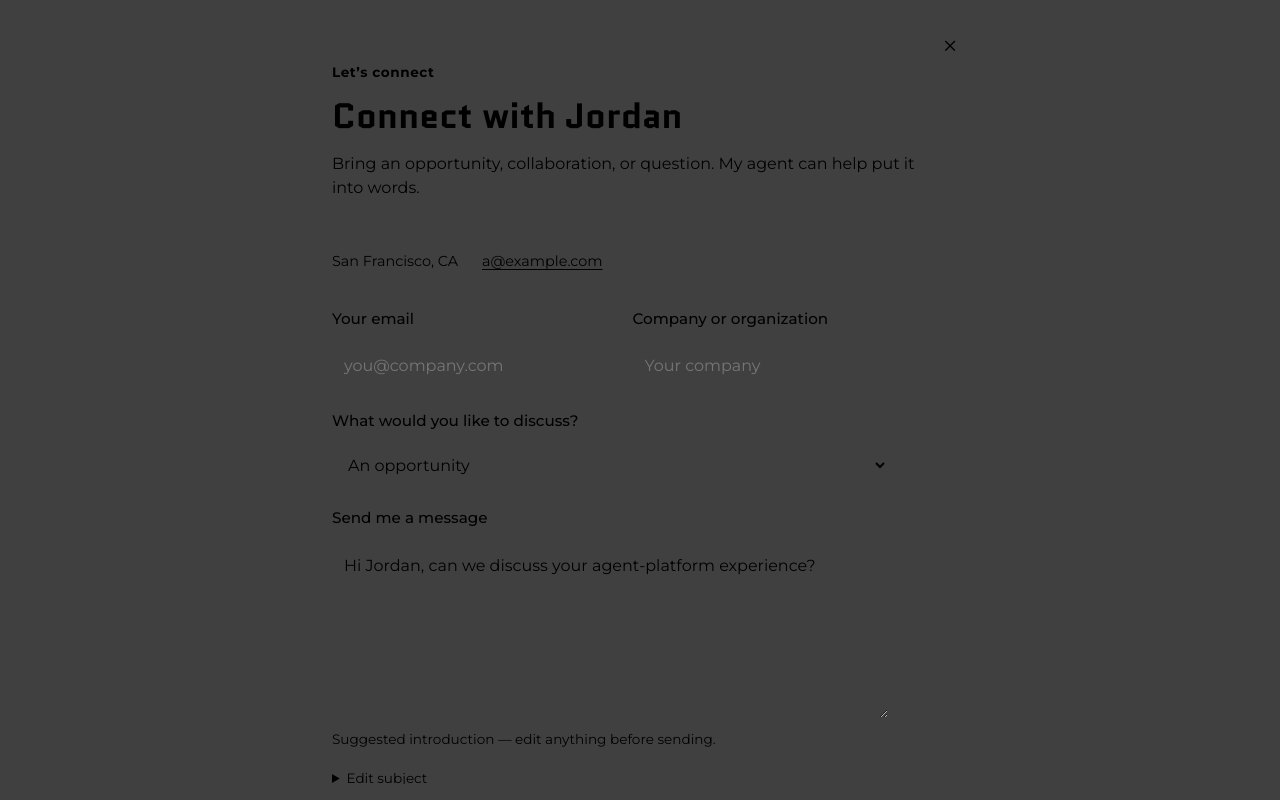
Test: contact introduction › retains identity and message on failure and offers an encoded owner-only fallback
The image size is (1280, 800).
Check: the text "Suggested introduction — edit anything before sending." is shown, box [332,731,716,747]
Type "visitor@example.com" into the field labelled "Your email".
click(467, 366); type("visitor@example.com")  # box [332,341,602,391]
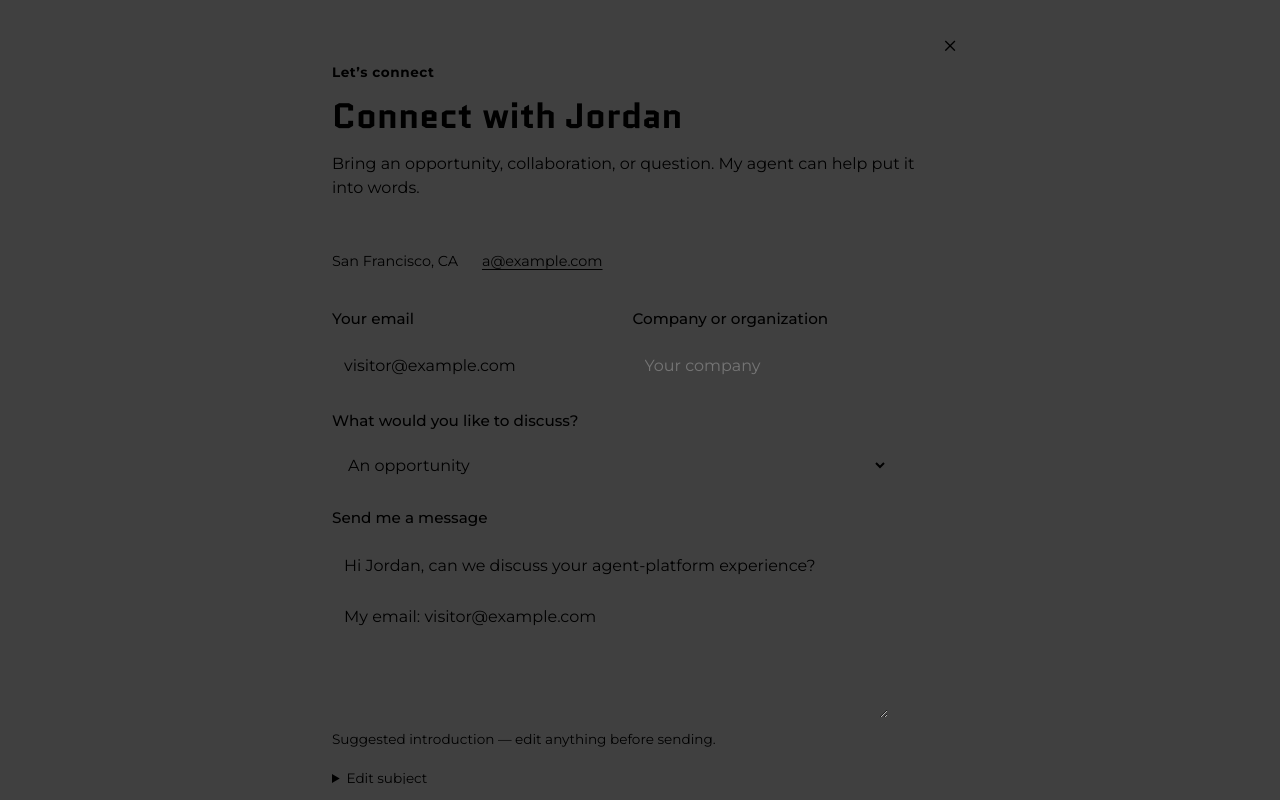
Type "Example Labs" into the field labelled "Company or organization".
click(768, 366); type("Example Labs")  # box [633,341,903,391]
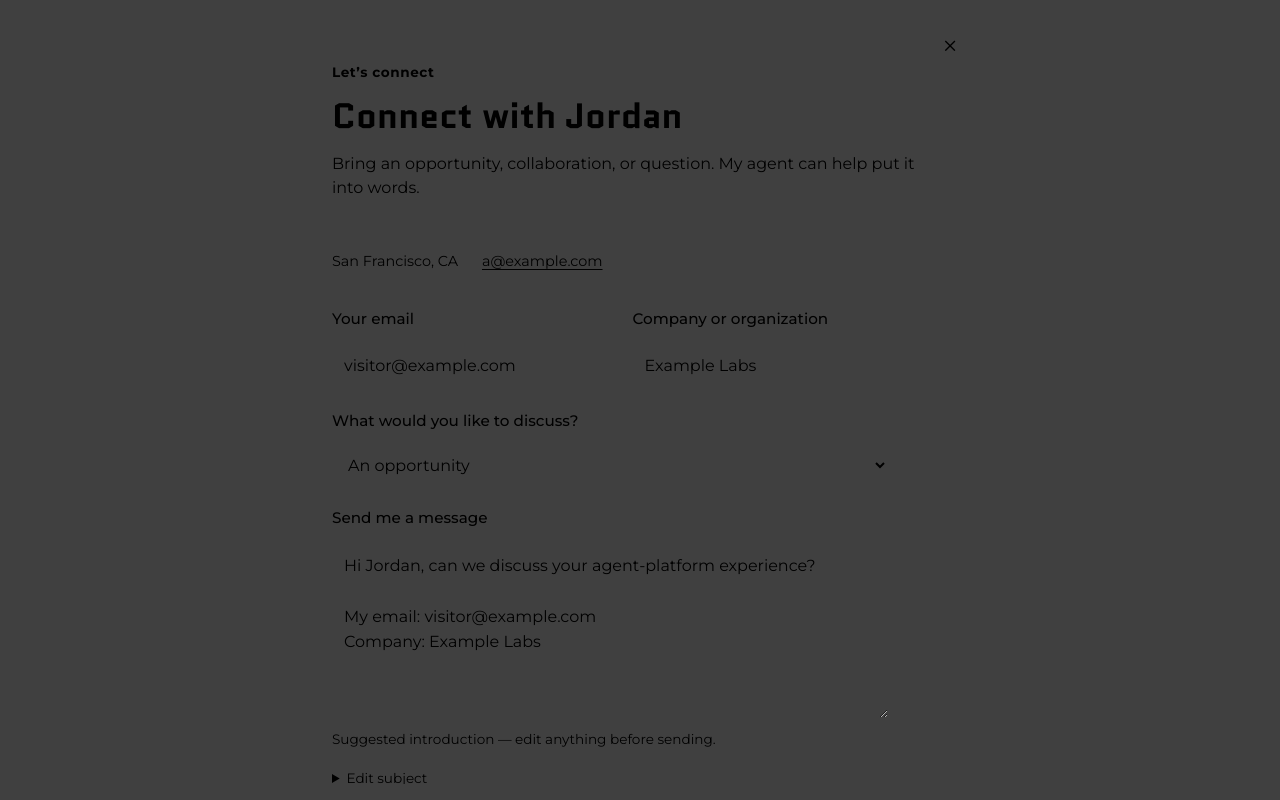
Replace the text in the text box labelled "Send me a message" with "Hello & agents?" at (610, 629), box [332,541,888,718]
(page scrolled)
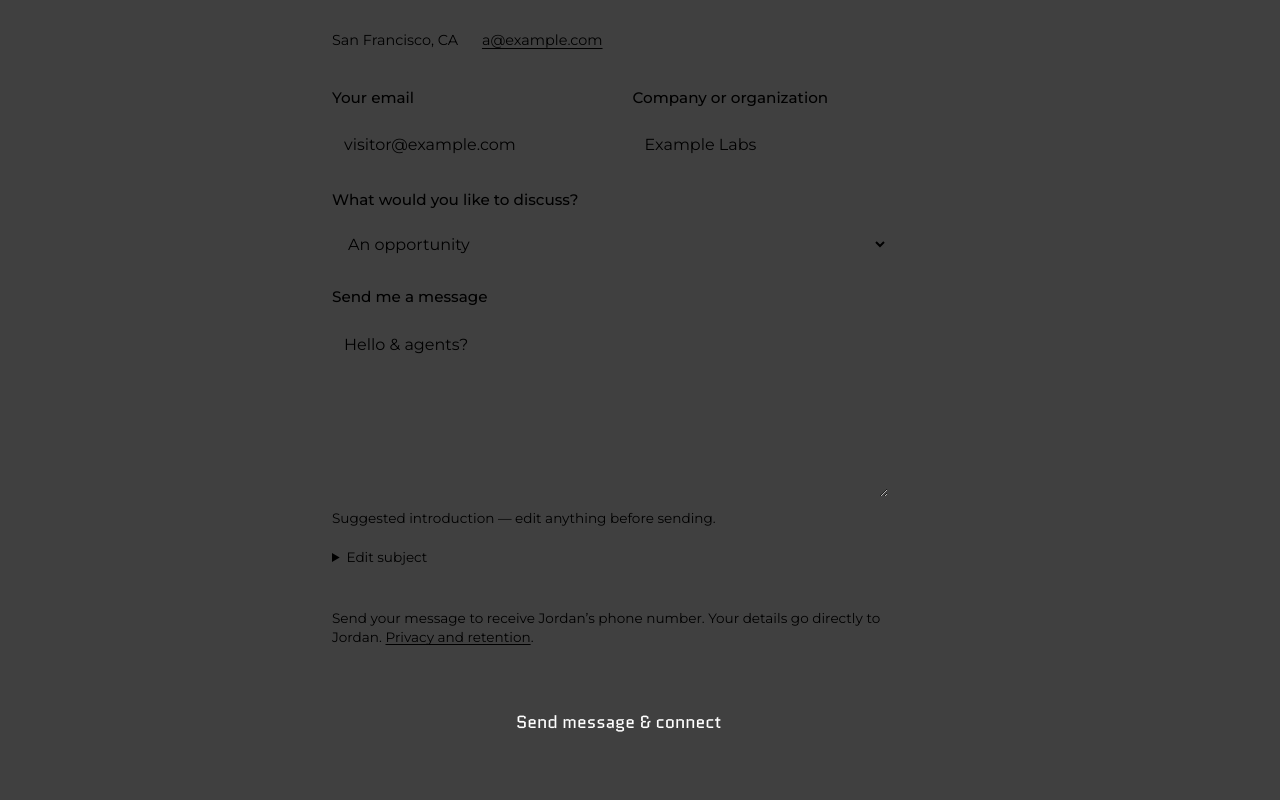
Submit the form named "Send message & connect", box [332,86,917,752]
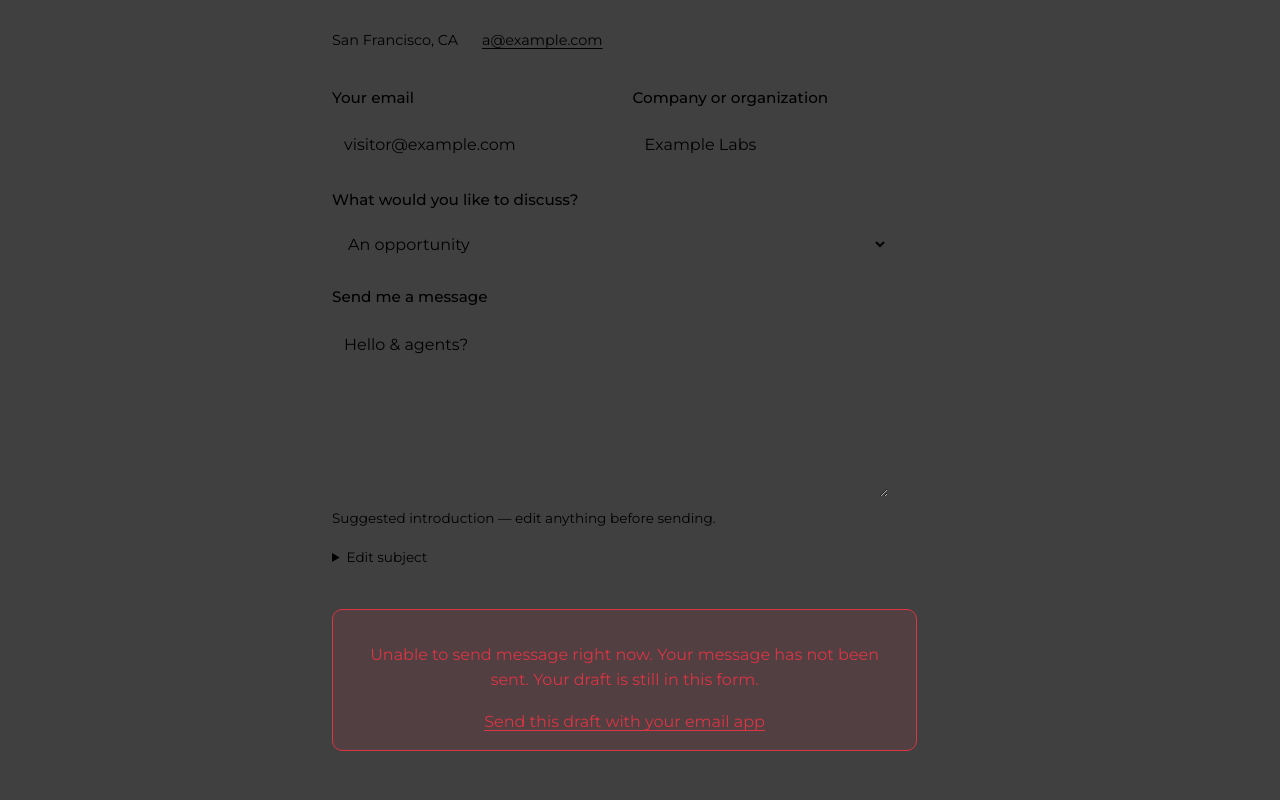
Check: the link "a@example.com" is shown, box [482,29,603,52]
Check: the message that starts with "Unable to send message right now" is shown, box [332,609,917,751]
